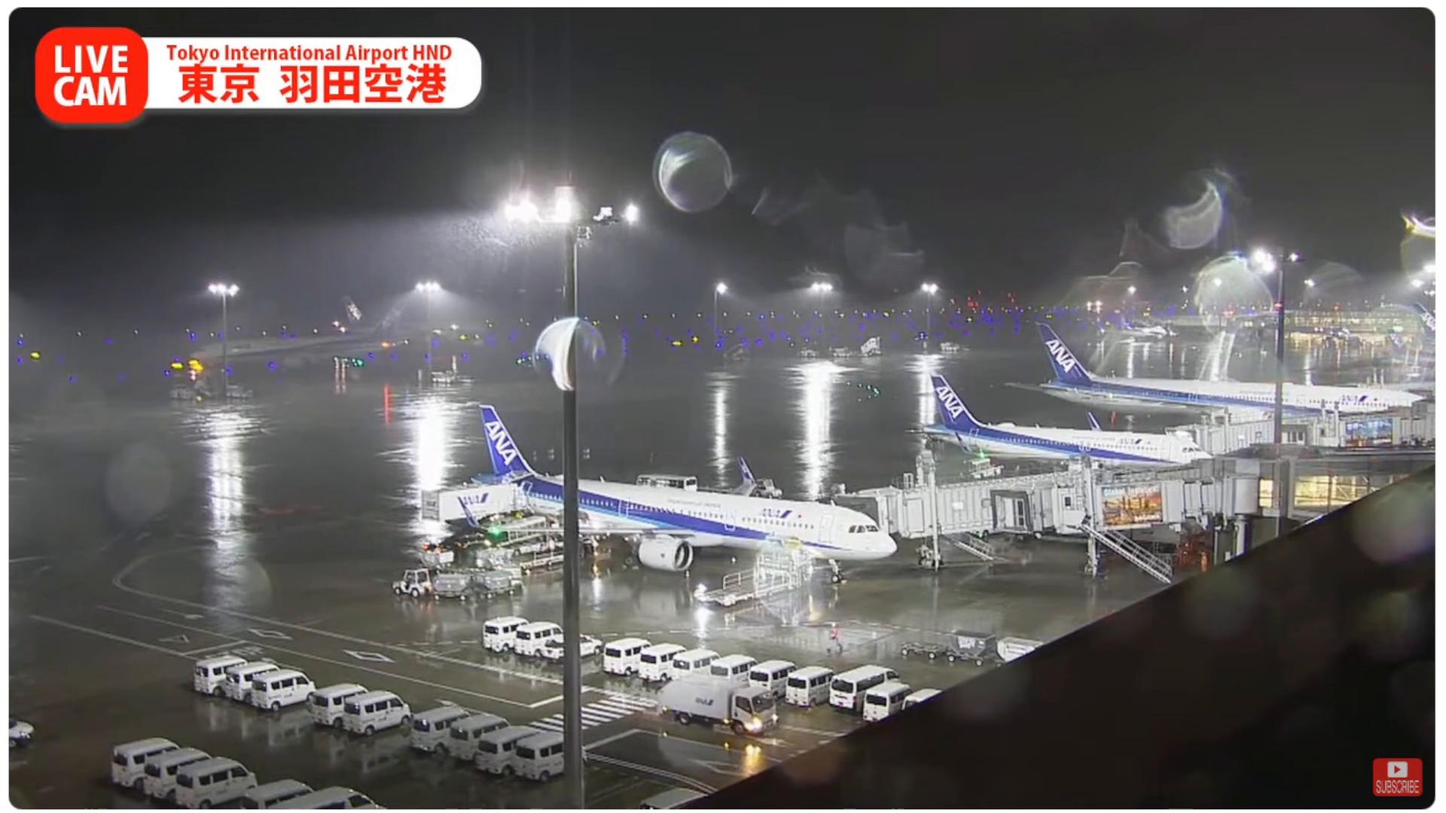Aerobridge: (837, 461, 1193, 540), (988, 473, 1227, 539)
Airplane: (461, 407, 899, 586)
Catering: (421, 483, 529, 555)
Dolly: (421, 547, 521, 602)
JCPL: (692, 533, 821, 610)
Skyloader: (493, 513, 597, 570)
Tractor: (390, 567, 433, 598), (750, 477, 784, 499)
Window: (1289, 476, 1414, 509)
